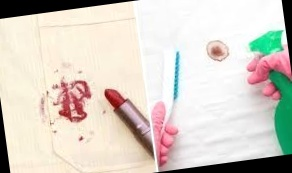blood: (205, 35, 232, 63)
lipstick: (47, 72, 110, 148), (31, 90, 55, 127), (48, 60, 87, 81)
